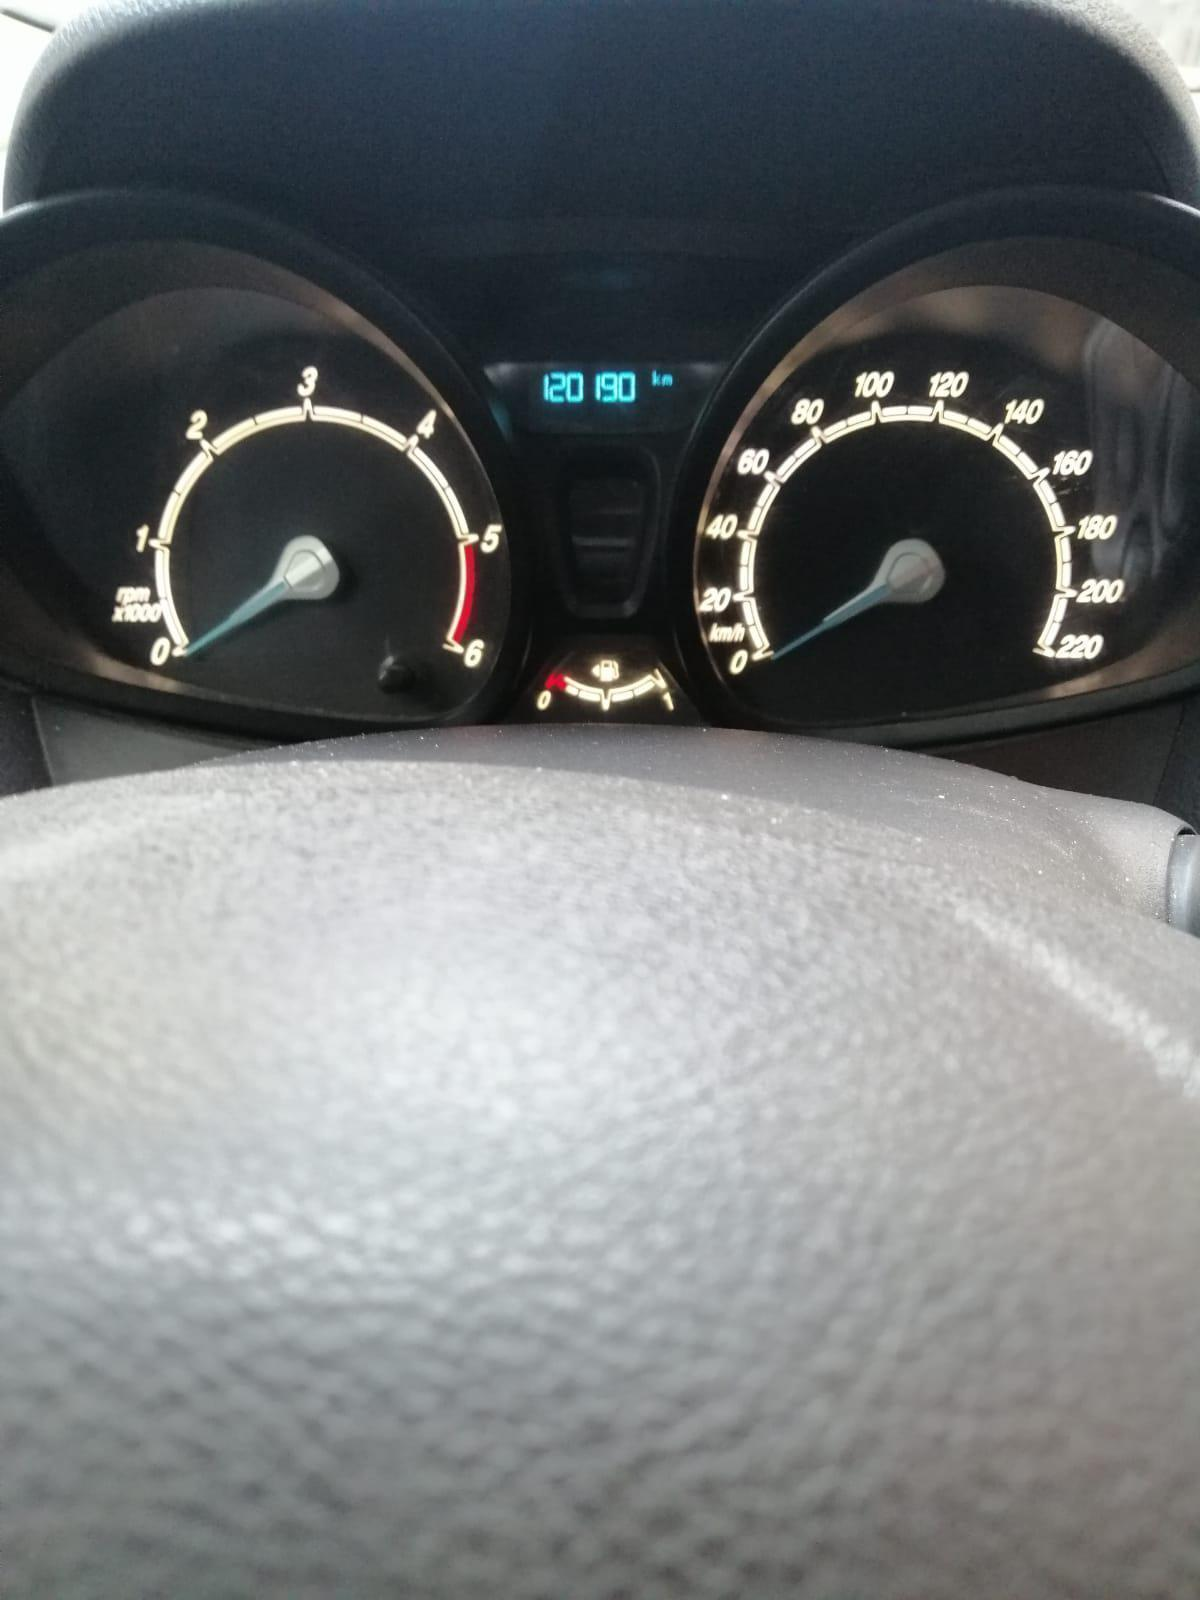0: (566, 369, 584, 402), (619, 370, 637, 402), (601, 370, 616, 403)
1: (542, 370, 550, 402), (594, 372, 600, 401)
2: (550, 370, 565, 403)
X: (650, 368, 661, 386), (661, 372, 673, 386)
odometer: (474, 354, 735, 437)
